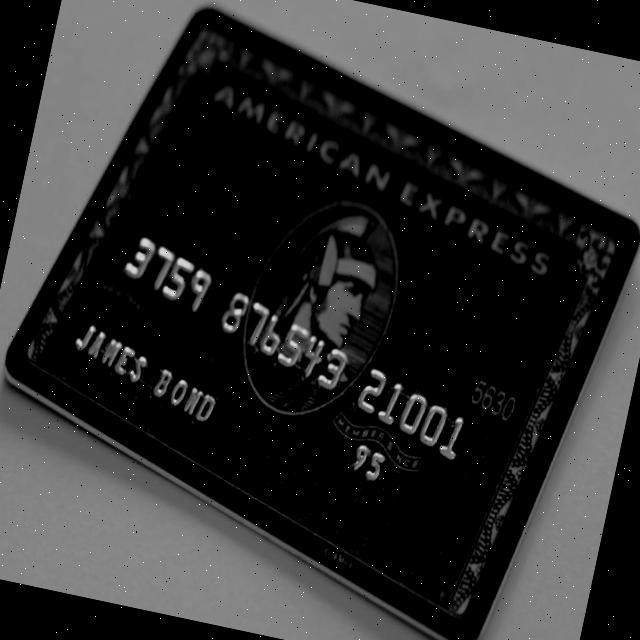card: (0, 6, 640, 640)
